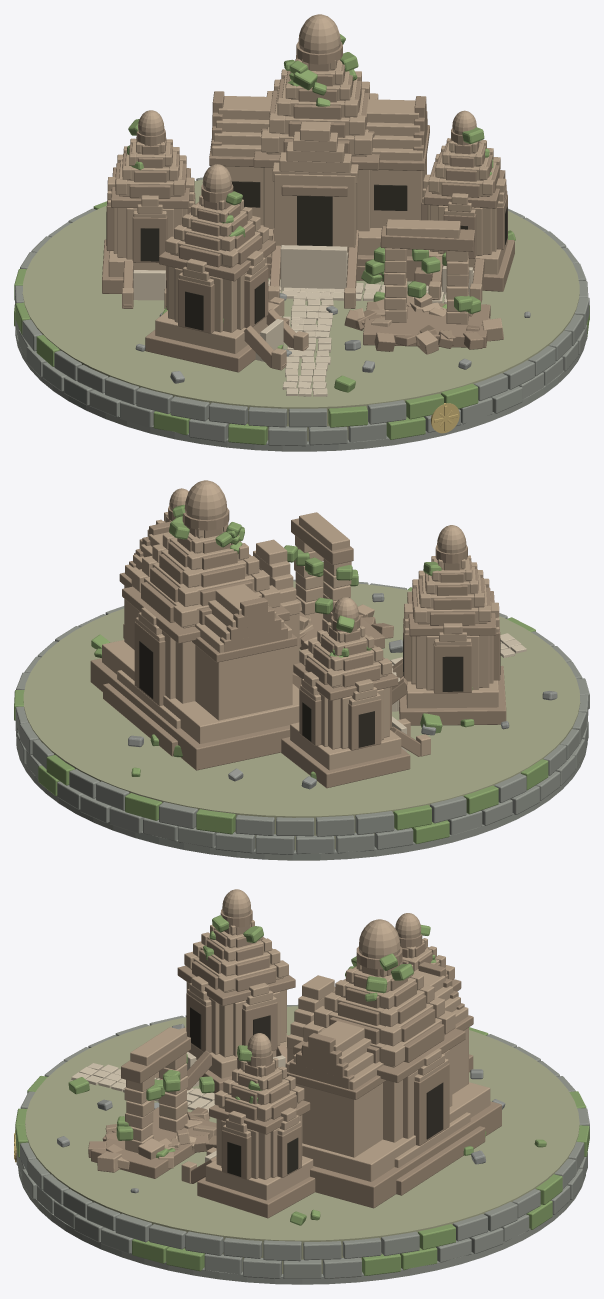
The picture shows the model from 3 angles, top to bottom: view 1: azimuth 30°, elevation 25°; view 2: azimuth 150°, elevation 25°; view 3: azimuth 270°, elevation 25°; orthographic projection.
Visible parts, largest first — view 1: Diorama_Ground_Core, Diorama_Base_Bottom, Main_Porch_Base, Main_Grand_Stairs_Step_8, Gate_Plinth_Base, Shrine_Front_Left_Plinth_Lower, Main_Wing_Right_Wall, Shrine_Front_Left_Plinth_Upper, Main_Porch_DoorVoid, Main_Temple_Prasat_Body_Core, Gate_Lintel_Main, Main_Temple_Prasat_Lotus_Crown (+65 smaller); view 2: Diorama_Ground_Core, Main_Wing_Left_Wall, Main_Wide_Terrace_Upper, Main_Wide_Terrace_Lower, Diorama_Base_Bottom, Shrine_Back_Left_Plinth_Lower, Shrine_Back_Left_Plinth_Upper, Shrine_Front_Left_Plinth_Lower, Shrine_Front_Left_Plinth_Upper, Main_Temple_Prasat_Plinth_Lower, Main_Temple_Prasat_Porch_2, Main_Temple_Prasat_Lotus_Crown (+59 smaller); view 3: Diorama_Ground_Core, Main_Wing_Right_Wall, Diorama_Base_Bottom, Main_Wide_Terrace_Lower, Main_Wide_Terrace_Upper, Shrine_Front_Right_Plinth_Lower, Gate_Plinth_Base, Shrine_Front_Right_Plinth_Upper, Main_Temple_Prasat_Plinth_Lower, Main_Temple_Prasat_Porch_2, Main_Temple_Prasat_Body_Core, Main_Temple_Prasat_Lotus_Crown (+54 smaller).
Boxes of the visible parts, x1,y1,x2,y2 form: Diorama_Ground_Core: (22,179,579,441); Diorama_Base_Bottom: (15,328,585,451); Main_Porch_Base: (274,174,357,247); Main_Grand_Stairs_Step_8: (280,245,347,290); Gate_Plinth_Base: (363,301,490,347); Shrine_Front_Left_Plinth_Lower: (145,317,289,372); Main_Wing_Right_Wall: (370,156,426,227); Shrine_Front_Left_Plinth_Upper: (155,302,279,353); Main_Porch_DoorVoid: (297,195,332,246); Main_Temple_Prasat_Body_Core: (263,167,370,231); Gate_Lintel_Main: (380,226,474,251); Main_Temple_Prasat_Lotus_Crown: (298,14,340,53); Diorama_Ground_Core: (23,581,580,850); Main_Wing_Left_Wall: (195,645,292,720); Main_Wide_Terrace_Upper: (102,640,299,743); Main_Wide_Terrace_Lower: (90,658,289,770); Diorama_Base_Bottom: (16,734,587,860); Shrine_Back_Left_Plinth_Lower: (281,737,410,788); Shrine_Back_Left_Plinth_Upper: (290,722,401,770); Shrine_Front_Left_Plinth_Lower: (399,666,506,725); Shrine_Front_Left_Plinth_Upper: (406,680,498,708); Main_Temple_Prasat_Plinth_Lower: (103,683,177,756); Main_Temple_Prasat_Porch_2: (134,621,165,705); Main_Temple_Prasat_Lotus_Crown: (184,480,226,519); Diorama_Ground_Core: (25,1006,579,1273); Main_Wing_Right_Wall: (295,1083,382,1157); Diorama_Base_Bottom: (18,1166,585,1284); Main_Wide_Terrace_Lower: (310,1101,501,1208); Main_Wide_Terrace_Upper: (302,1082,490,1181); Shrine_Front_Right_Plinth_Lower: (197,1176,315,1218); Gate_Plinth_Base: (91,1107,216,1178); Shrine_Front_Right_Plinth_Upper: (205,1156,313,1200); Main_Temple_Prasat_Plinth_Lower: (396,1126,485,1195); Main_Temple_Prasat_Porch_2: (414,1063,449,1145); Main_Temple_Prasat_Body_Core: (383,1048,452,1142); Main_Temple_Prasat_Lotus_Crown: (359,919,400,958).
Bounding box in the file's own units: 0.9956 × 0.5199 × 0.9999.
